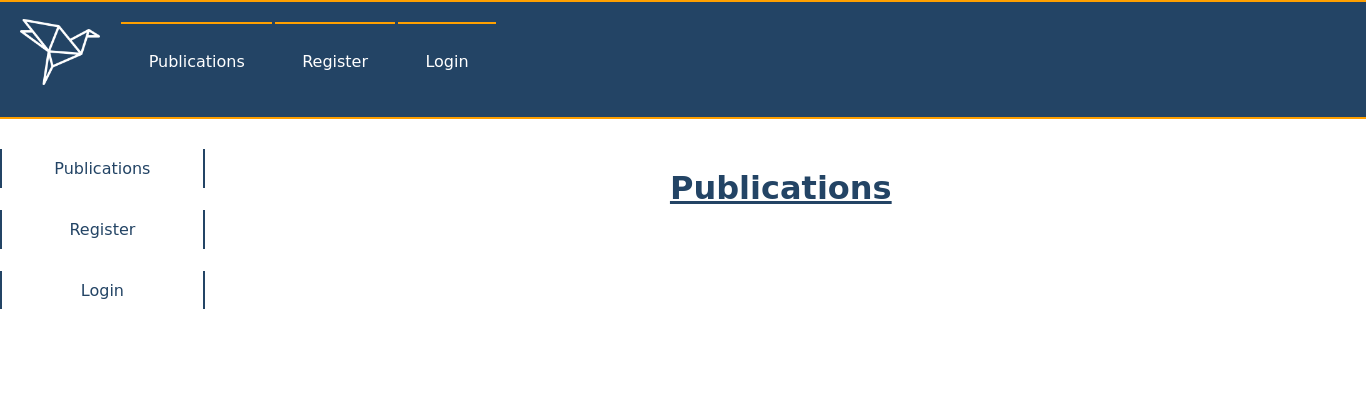
Test: Pages › Home page and navigate to login page
The width and height of the screenshot is (1366, 410).
Step 1. Click the element with test id "header [data-test-id=\"link-Login\"]" → point(447, 61), box [398,23,496,99]
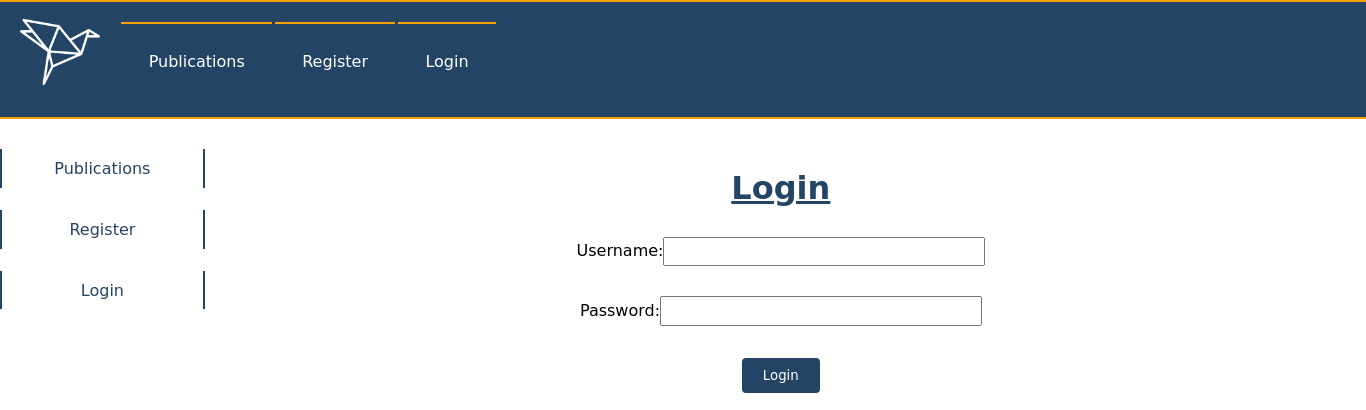
expect the heading "Login" is shown: met, box [731,169,830,207]
